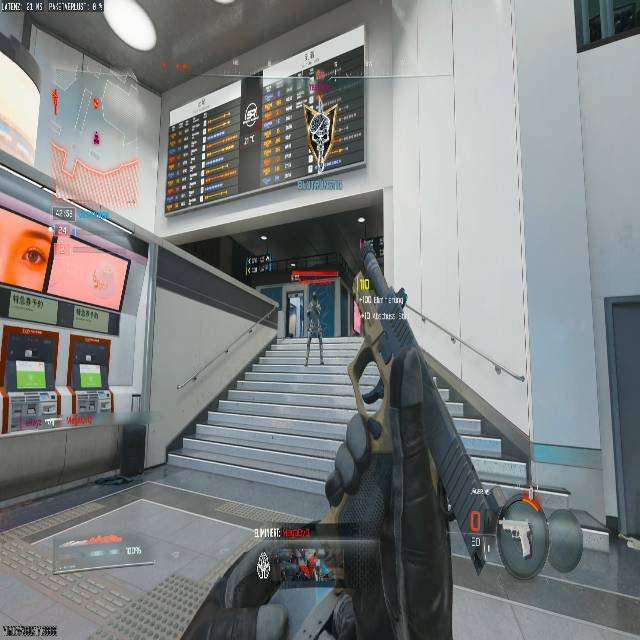player: (303, 297, 324, 345)
